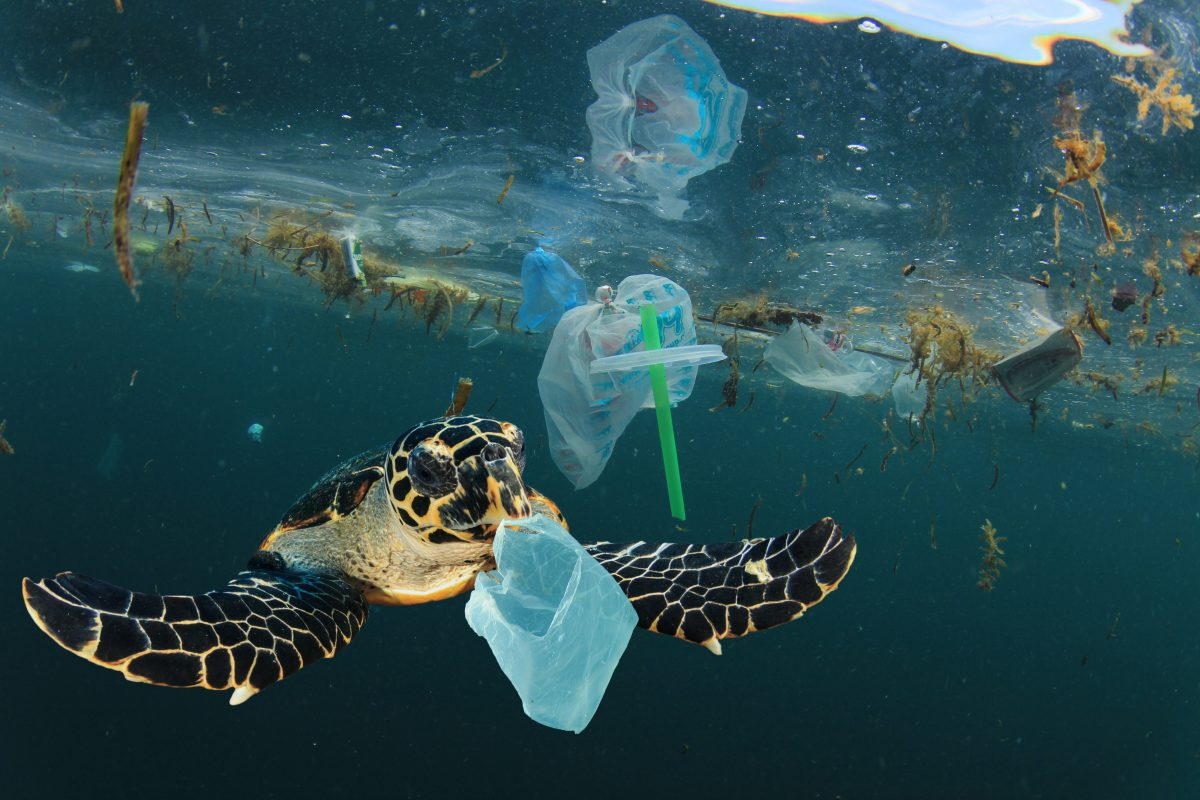Can: (977, 316, 1087, 420), (284, 197, 397, 291)
Glass: (452, 321, 518, 354)
Plastic: (455, 507, 648, 746), (579, 11, 735, 248), (747, 304, 946, 436), (502, 241, 605, 343), (212, 409, 286, 455)
Straw: (594, 300, 698, 526)
Turtle: (25, 405, 875, 727)
